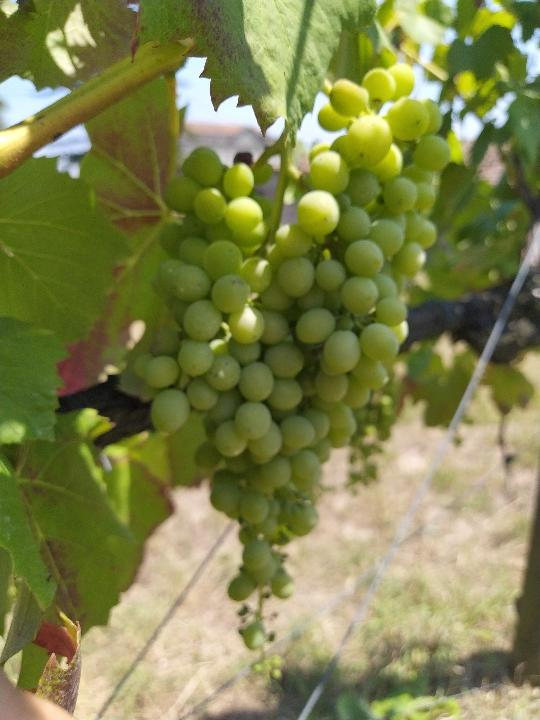grape: (133, 62, 452, 683)
